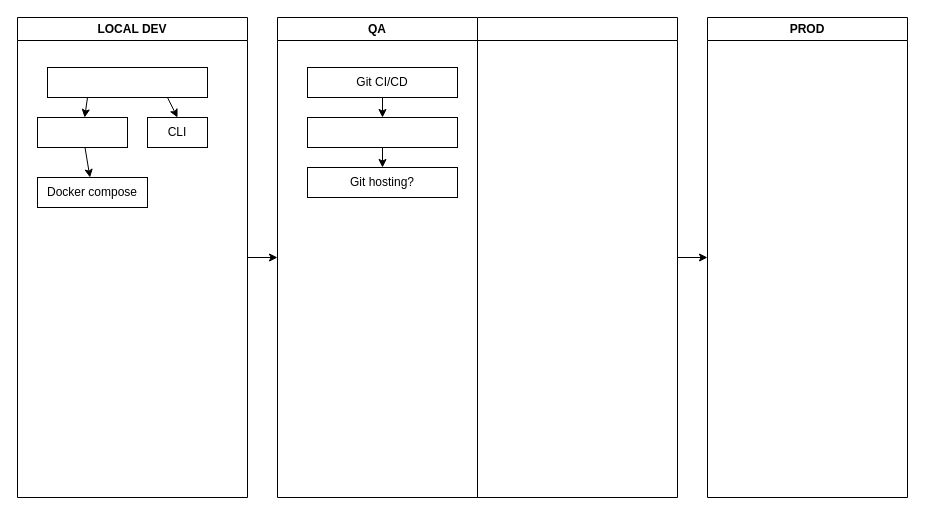
This 925x515 diagram has some shape labels left out. The shapes that lost their labels are listed below. From the top down, each one's centre as x and y in pixels, then its label:
At pixel 127 82: "repo folder".
At pixel 82 132: "Dockerfile".
At pixel 382 132: "config".
At pixel 577 257: "STAGE".
